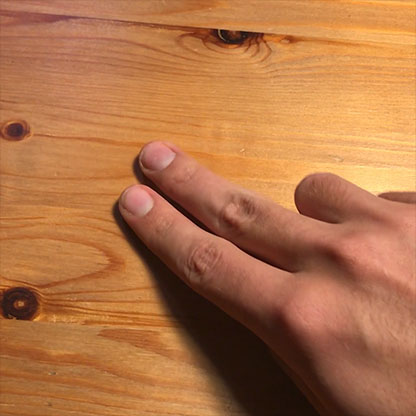fingertip: (106, 177, 156, 226), (135, 133, 178, 183)
